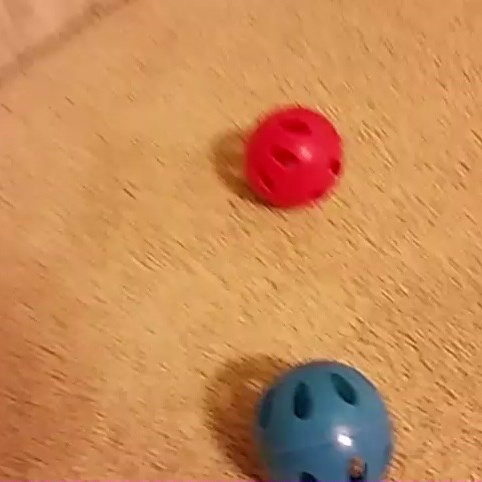blueball: (247, 354, 400, 482)
redball: (239, 101, 347, 212)
